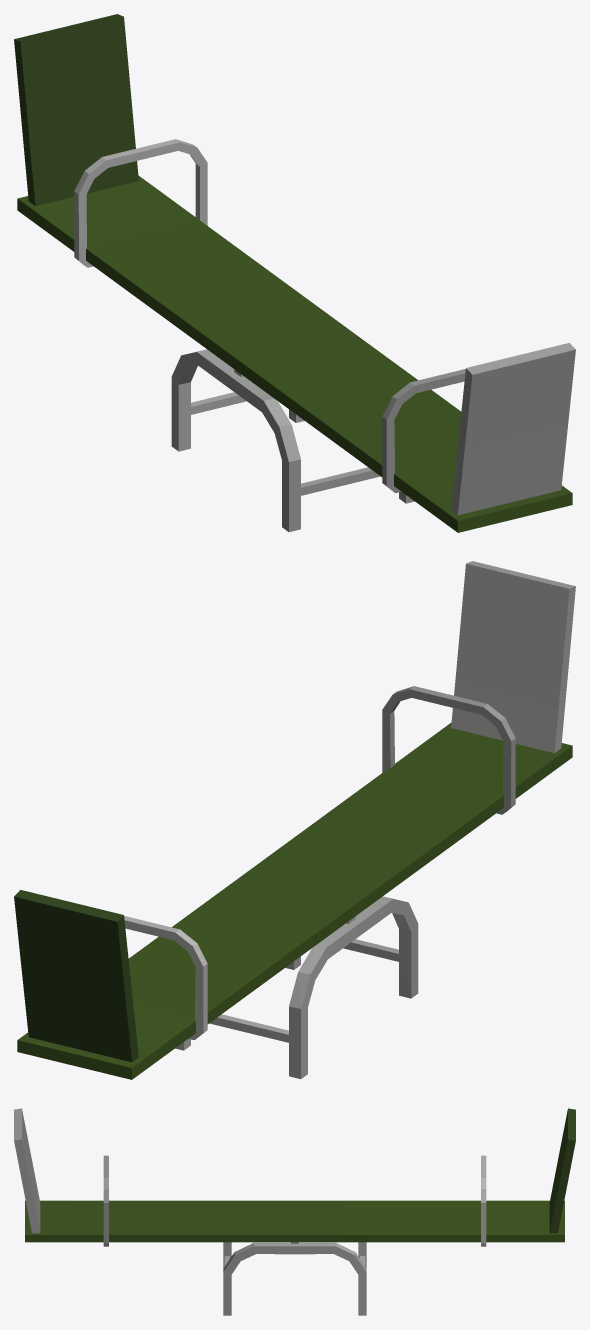
Rendered from Playground_03.fbx.
3 renders of one model, top to bottom at view 1: azimuth 30°, elevation 25°; view 2: azimuth 150°, elevation 25°; view 3: azimuth 270°, elevation 25°, orthographic. The views are drawn at different scales.
Visible parts, largest first — view 1: Playground_03; view 2: Playground_03; view 3: Playground_03.
Part boxes in pixels (bbox=[...]): Playground_03: bbox=[14, 14, 575, 532]; Playground_03: bbox=[14, 561, 575, 1079]; Playground_03: bbox=[14, 1108, 575, 1315].
Size of the model in its own units: 0.339 by 0.7044 by 2.08.
